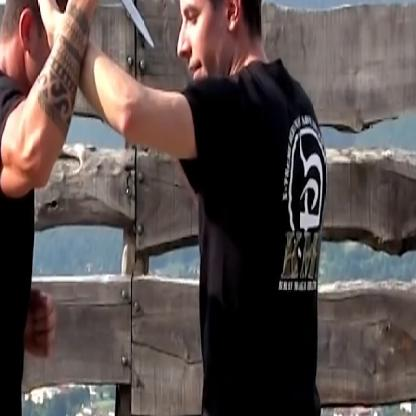knife: (64, 0, 158, 58)
